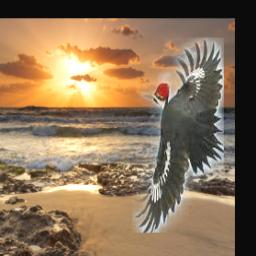Woodpecker: (132, 38, 224, 233)
